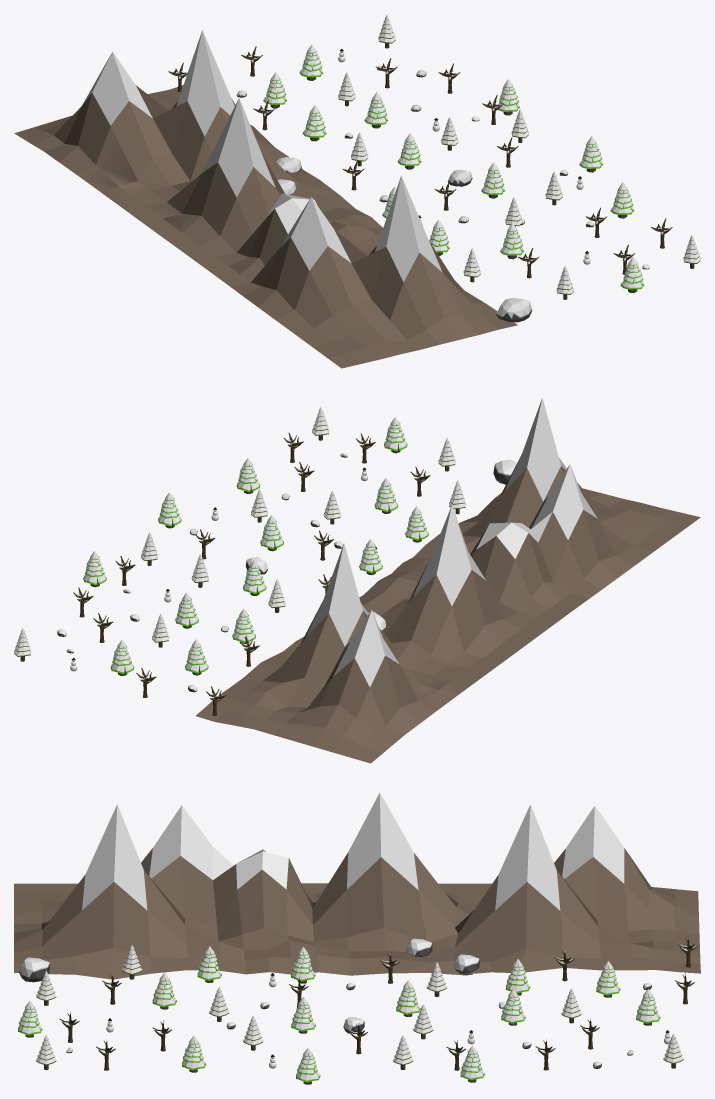
The model's file is items_snow.fbx.
3 renders of one model, top to bottom at view 1: azimuth 30°, elevation 25°; view 2: azimuth 150°, elevation 25°; view 3: azimuth 270°, elevation 25°, orthographic. The views are drawn at different scales.
Parts seen in each view (by area): view 1: snow_tree.001; view 2: snow_tree.001; view 3: snow_tree.001.
Part boxes in pixels (bbox=[...]): snow_tree.001: bbox=[14, 14, 700, 368]; snow_tree.001: bbox=[14, 398, 700, 763]; snow_tree.001: bbox=[14, 792, 700, 1084].
Size of the model in its own units: 18346 by 5958 by 26172.
